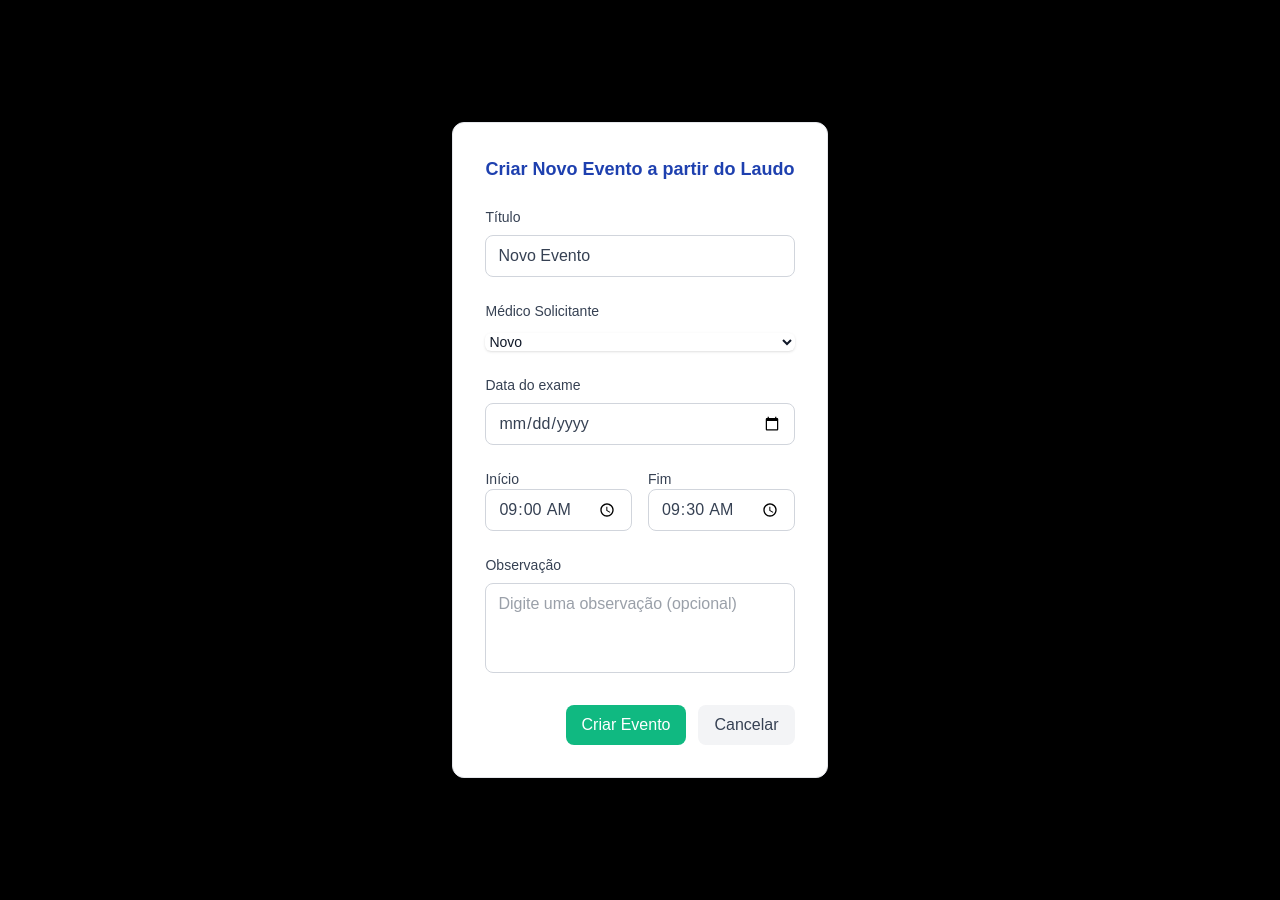
Test: CreateEventFromNotificationModal › exibe erro ao tentar criar evento sem preencher campos obrigatórios
This screenshot has width=1280, height=900.
Step 1. Click the button "Criar Evento" → x=626, y=725, box [566,705,686,745]
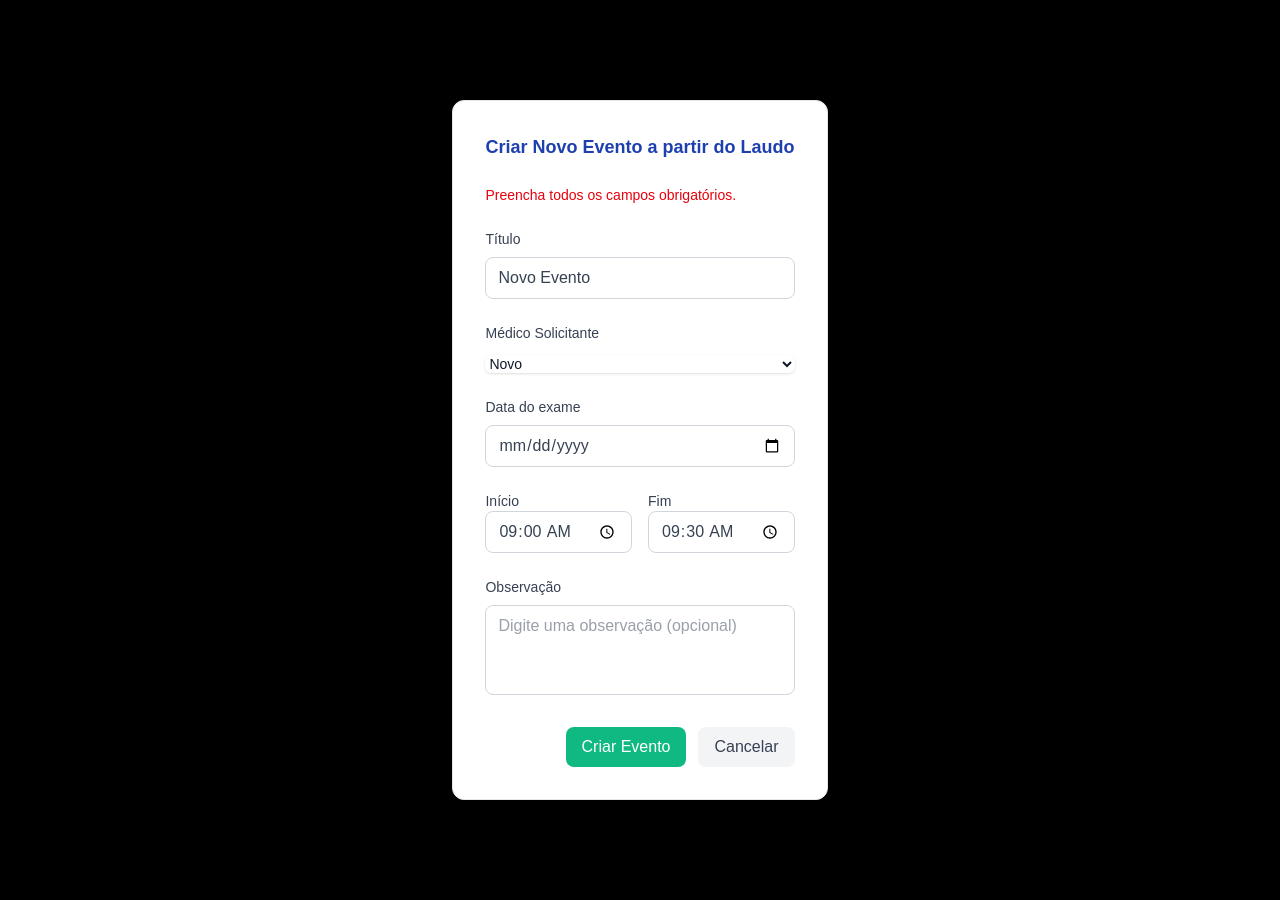
Expected: the text "Preencha todos os campos obrigatórios." is shown, [486,187,736,203]
